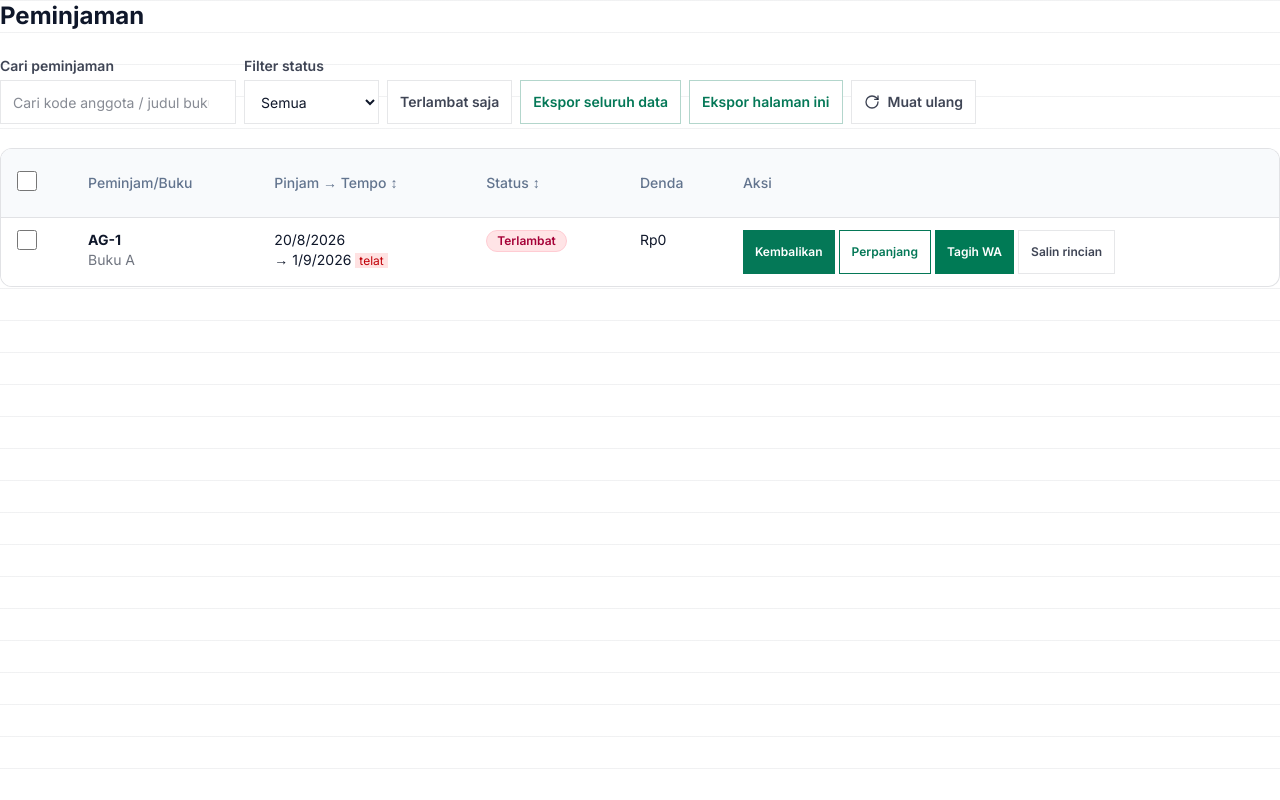
Test case: #59 review fixes (UploadInput crash + peminjaman PUT/options) › review#3: error PUT return tampil role=alert (bukan kotak sukses hijau)
Step 1. Click the button with aria-label "kembalikan pinjaman" → [789, 252], box [743,230,835,274]
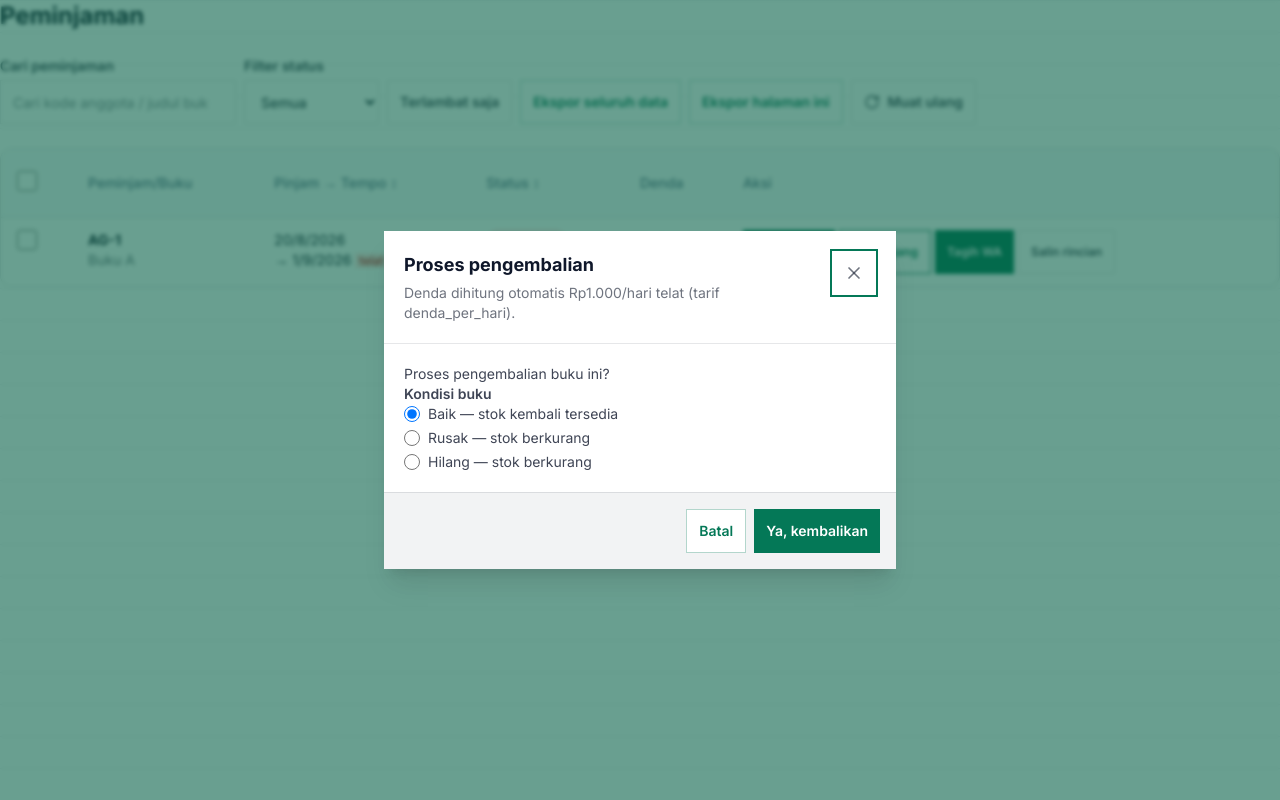
Expected: the dialog is shown, [384,231,896,569]
Step 2. Click the button "Ya, kembalikan" → [817, 531], box [754,509,880,553]
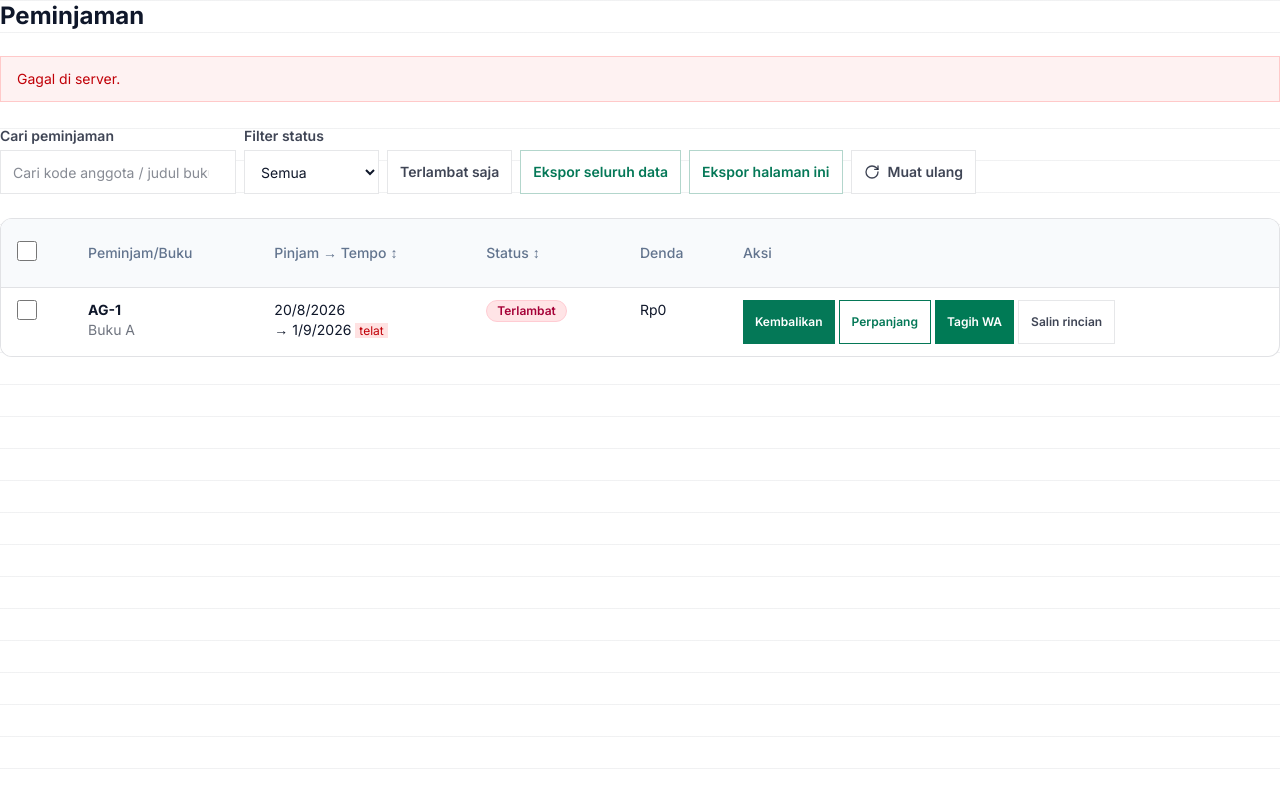
Expected: the message reads "Gagal di server.", [17,70,120,87]
